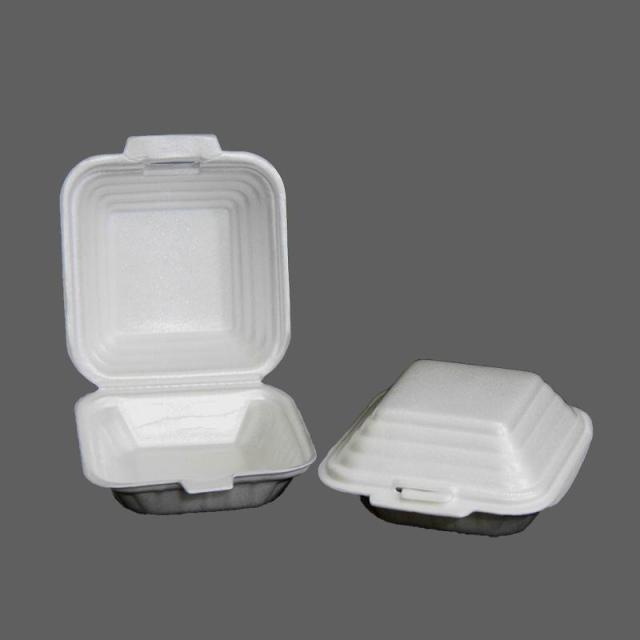styrofoam: (58, 131, 318, 515), (316, 357, 594, 537)
